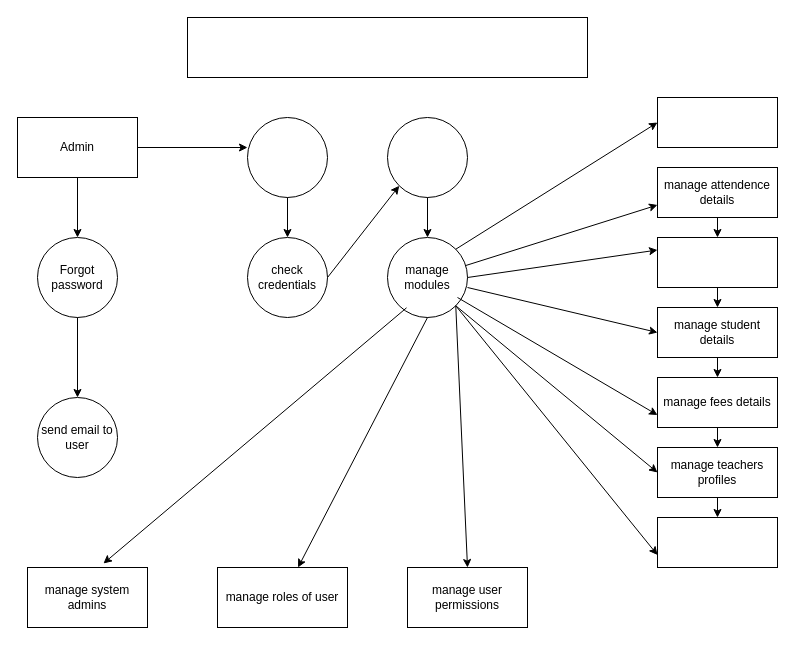
Image size: 795x645. Some labels were removed from this diagram. Here are the shapes that lost their labels. From the top down, the centre of each, then its label:
At pixel 387 47: "student Information system".
At pixel 717 122: "manage time table details".
At pixel 287 157: "login to systems".
At pixel 427 157: "check roles of access".
At pixel 717 262: "manage class details".
At pixel 717 542: "manage report".
